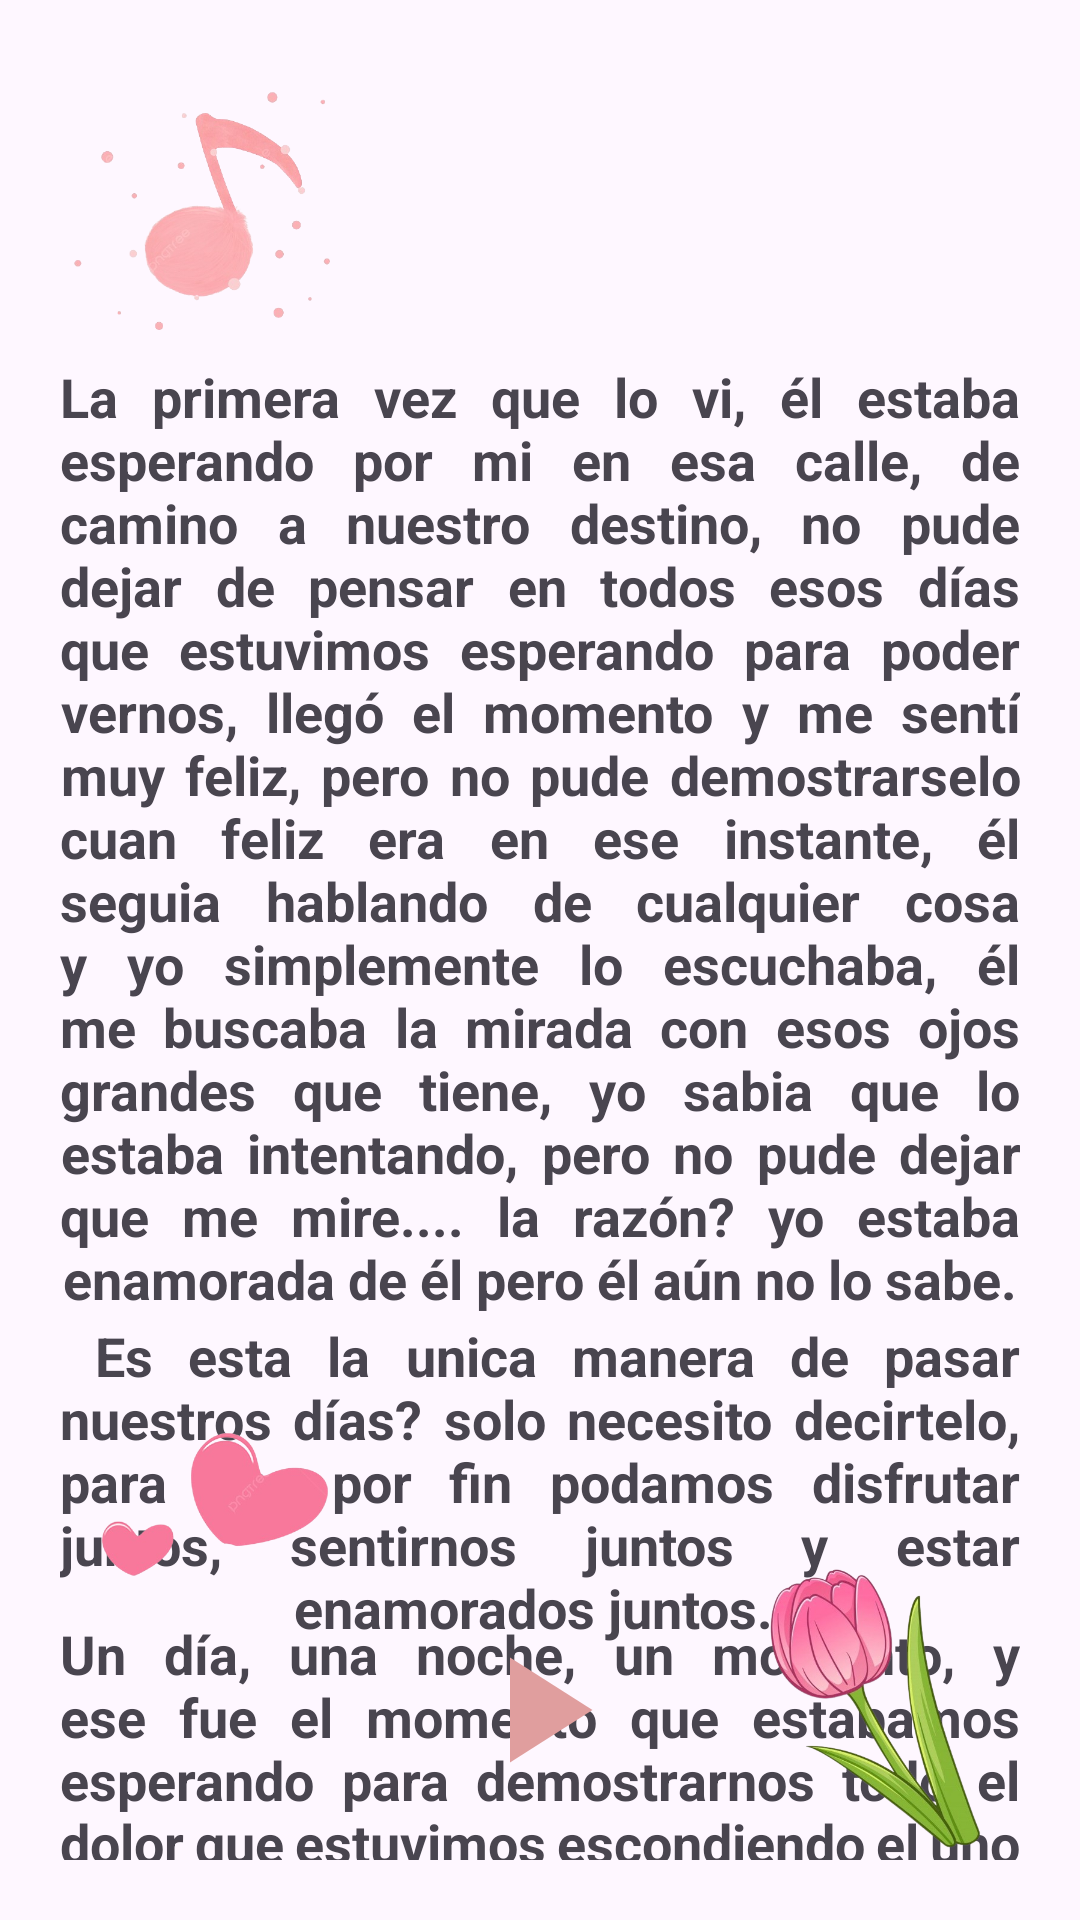

Icon click points for this 1080 x 1920 phone screenshot, format [x,y]:
melodiarv: [202,211]
tulipanrv: [870,1710]
